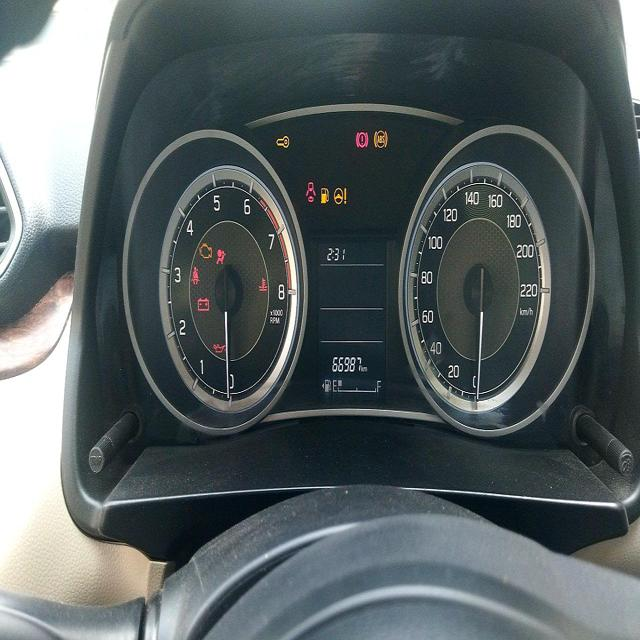odometer: (331, 353, 362, 374)
